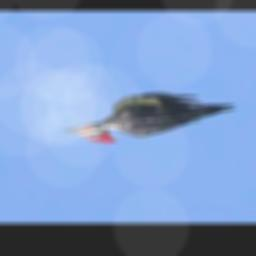Woodpecker: (62, 94, 237, 144)
